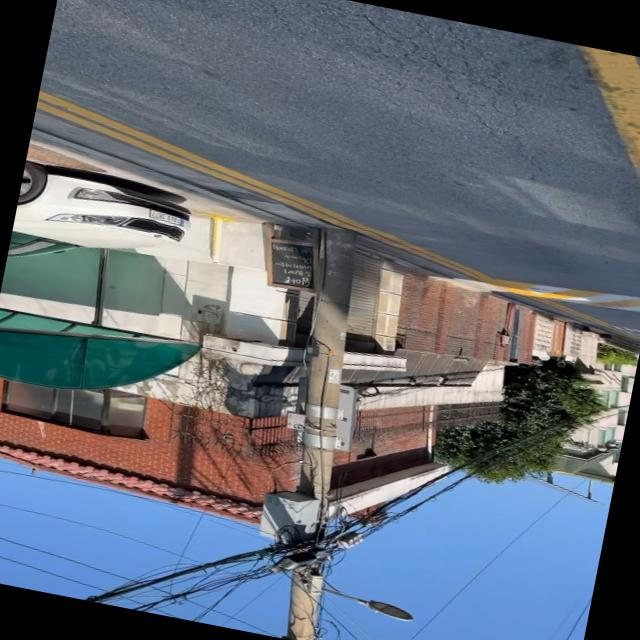building: (0, 172, 552, 577)
car: (7, 160, 197, 290)
